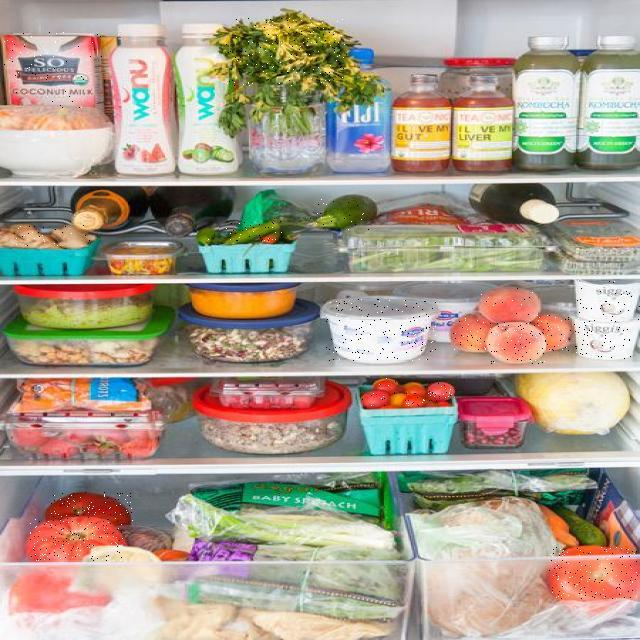courgettes: (310, 196, 377, 230)
ginger: (11, 226, 57, 246), (54, 225, 95, 247)
green chilies: (226, 221, 284, 241), (198, 226, 220, 243)
milk: (3, 32, 102, 109)
parsley: (226, 18, 347, 86)
peach: (488, 322, 546, 364), (480, 288, 540, 323), (452, 316, 490, 353), (538, 314, 574, 351)
tomato: (549, 546, 638, 599), (30, 518, 123, 562), (50, 492, 133, 522), (427, 383, 453, 401), (361, 390, 390, 406), (376, 378, 396, 394), (402, 393, 426, 406)
yoghurt: (326, 299, 436, 362), (576, 280, 640, 322), (574, 320, 640, 359)
